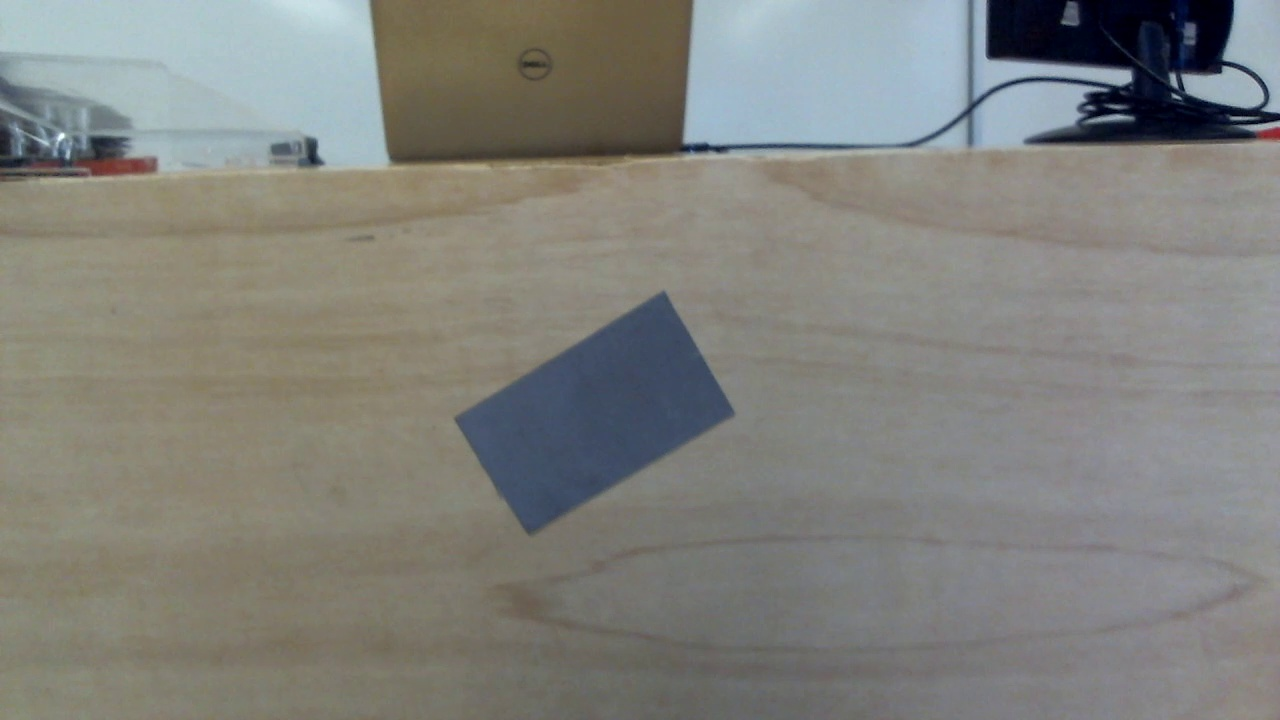Tape: (457, 295, 736, 532)
